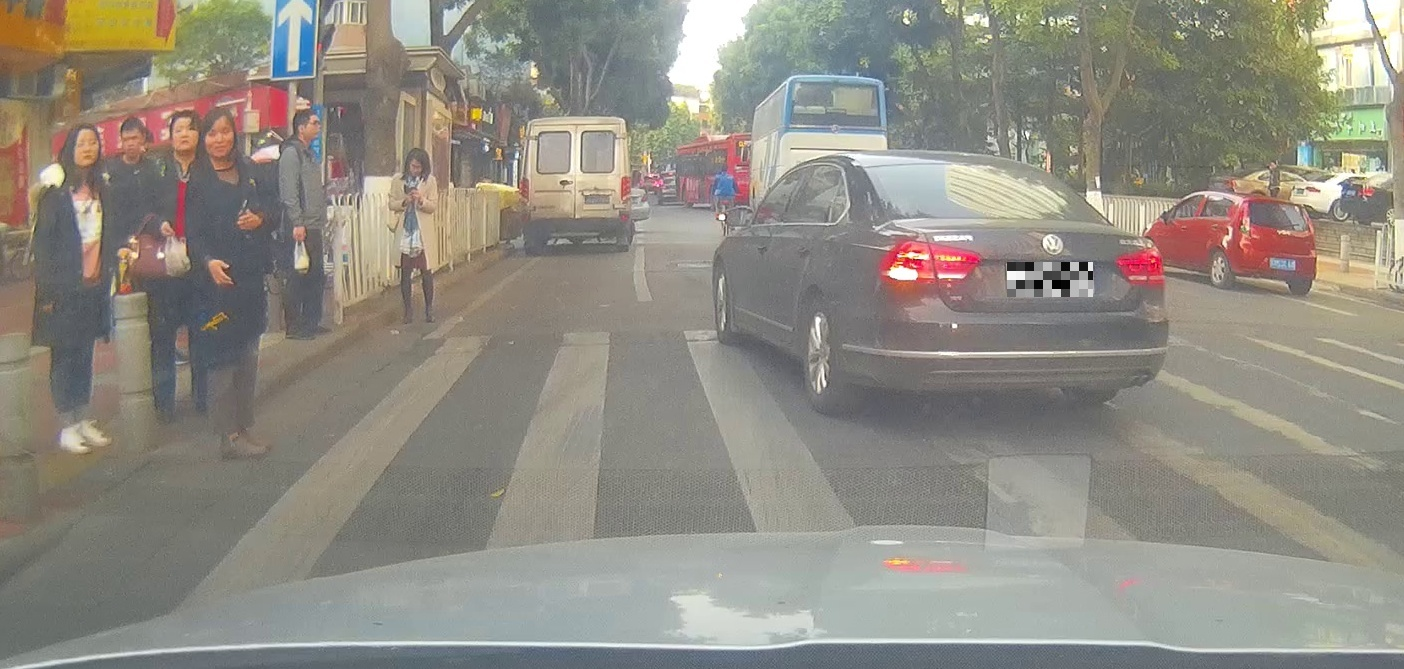L_light: (877, 240, 982, 289), (518, 178, 530, 203), (1238, 217, 1251, 234)
R_light: (1113, 244, 1166, 287), (620, 176, 632, 202), (1306, 222, 1315, 235)
T_light: (1024, 213, 1068, 221), (571, 123, 587, 127), (1277, 203, 1293, 206)
day-left: (876, 151, 1167, 405)
day-no: (518, 116, 632, 256), (1237, 195, 1317, 295)
plate_1: (1007, 262, 1093, 297)
